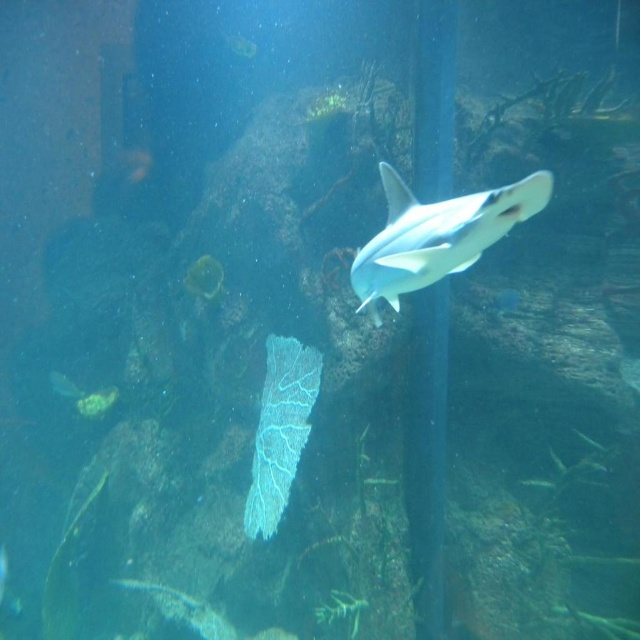Shark: (357, 156, 549, 322)
